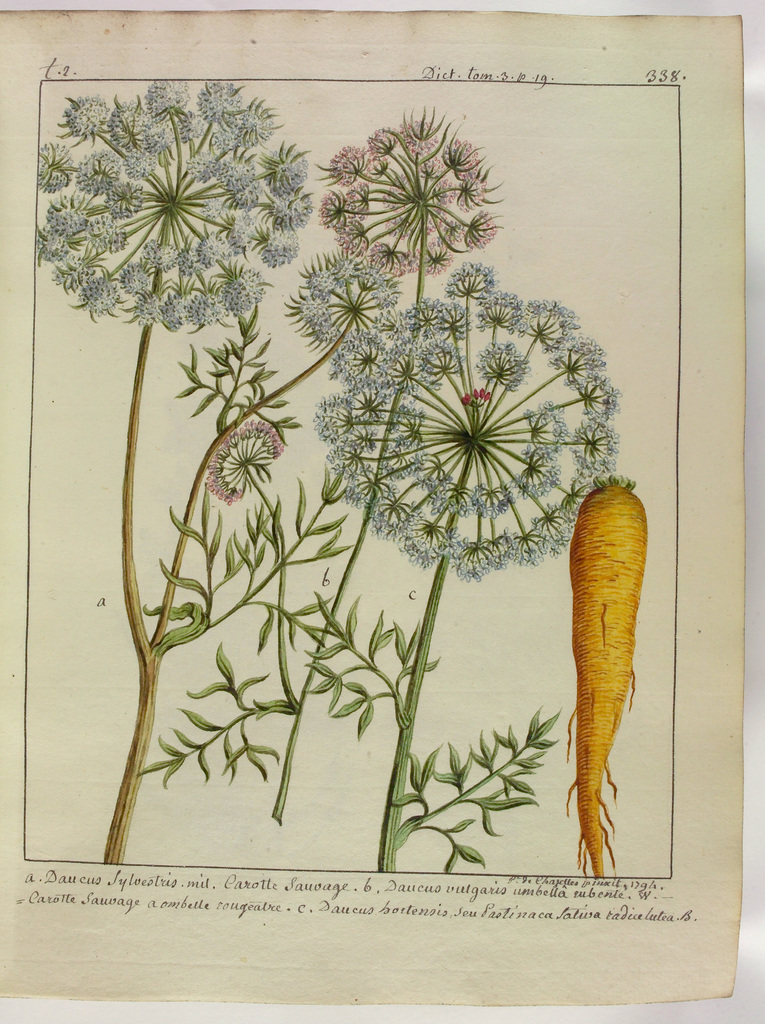Carrot: (531, 473, 642, 912)
